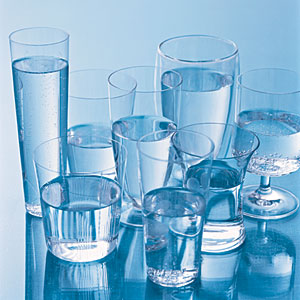glass of water: (9, 23, 69, 224), (180, 112, 249, 257), (139, 137, 198, 286), (39, 142, 114, 254), (116, 72, 170, 223), (242, 74, 300, 206), (69, 74, 128, 199), (174, 48, 232, 154)
